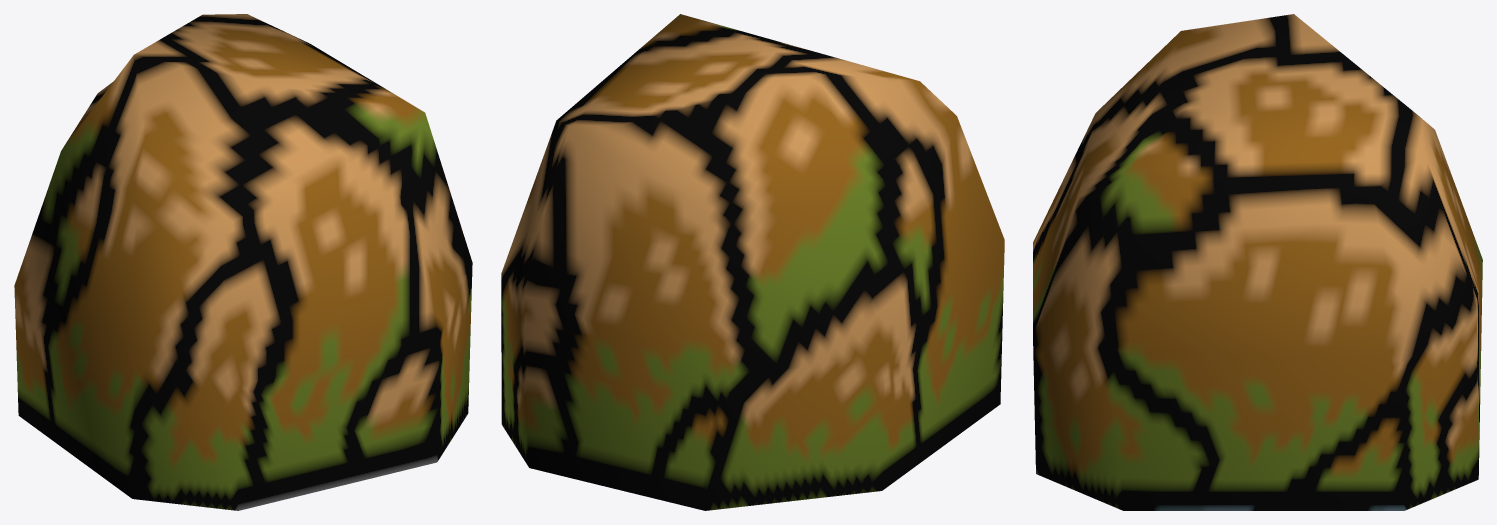
File: deco_boulder_A.FBX
3 renders of one model, left to right at view 1: azimuth 30°, elevation 25°; view 2: azimuth 150°, elevation 25°; view 3: azimuth 270°, elevation 25°, orthographic. The views are drawn at different scales.
Visible parts, largest first — view 1: deco_boulder_A; view 2: deco_boulder_A; view 3: deco_boulder_A.
Part boxes in pixels (x1,y1,x2,y2): deco_boulder_A: (14,14,472,510); deco_boulder_A: (501,14,1004,510); deco_boulder_A: (1033,14,1482,510).
Bounding box in the file's own units: 1.7 × 1.71 × 1.88.
1 material, 1 textured.
